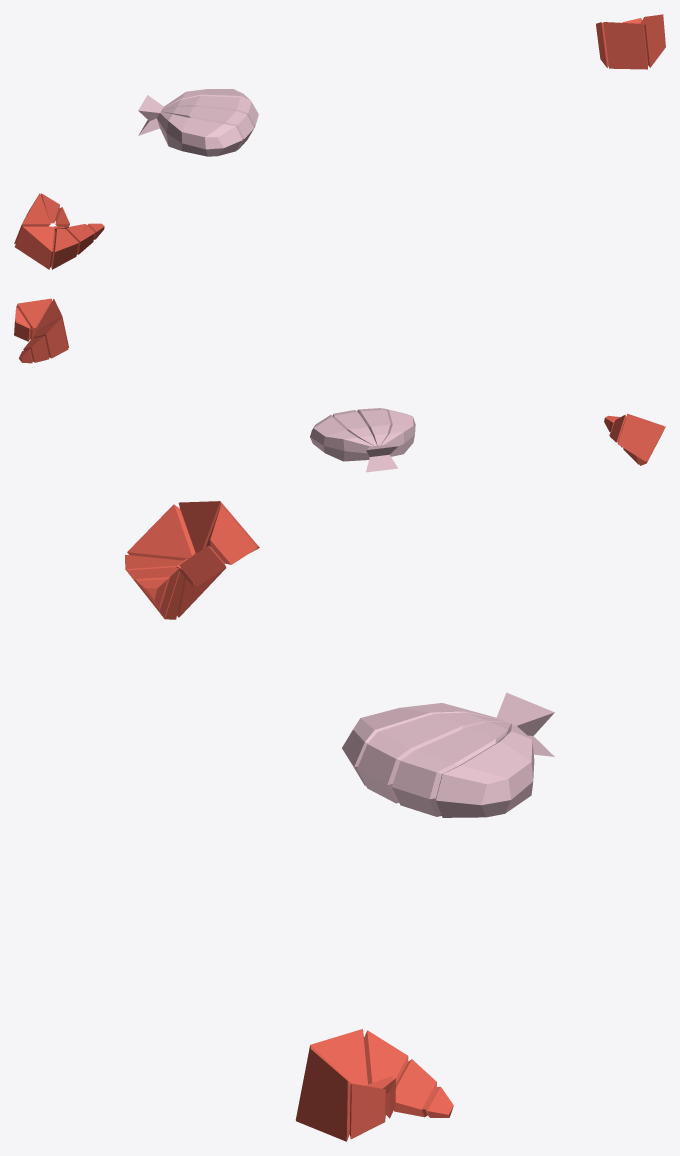
File: sea shells.fbx
3 renders of one model, top to bottom at view 1: azimuth 30°, elevation 25°; view 2: azimuth 150°, elevation 25°; view 3: azimuth 270°, elevation 25°, orthographic. The views are drawn at different scales.
Parts seen in each view (by area): view 1: Cube.002, Cube.001, Cube; view 2: Cube.002, Cube, Cube.001; view 3: Cube.002, Cube, Cube.001.
Boxes of the visible parts, x1=… form: Cube.002: x1=138, y1=89, x2=258, y2=156; Cube.001: x1=14, y1=193, x2=104, y2=269; Cube: x1=596, y1=14, x2=665, y2=69; Cube.002: x1=310, y1=408, x2=415, y2=472; Cube: x1=14, y1=298, x2=68, y2=363; Cube.001: x1=604, y1=413, x2=665, y2=465; Cube.002: x1=342, y1=692, x2=554, y2=817; Cube: x1=295, y1=1029, x2=453, y2=1141; Cube.001: x1=125, y1=501, x2=259, y2=619.
Size of the model in its own units: 133 by 12.41 by 40.62.
